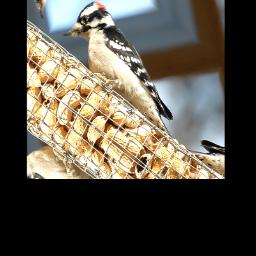Woodpecker: (55, 0, 201, 141)
